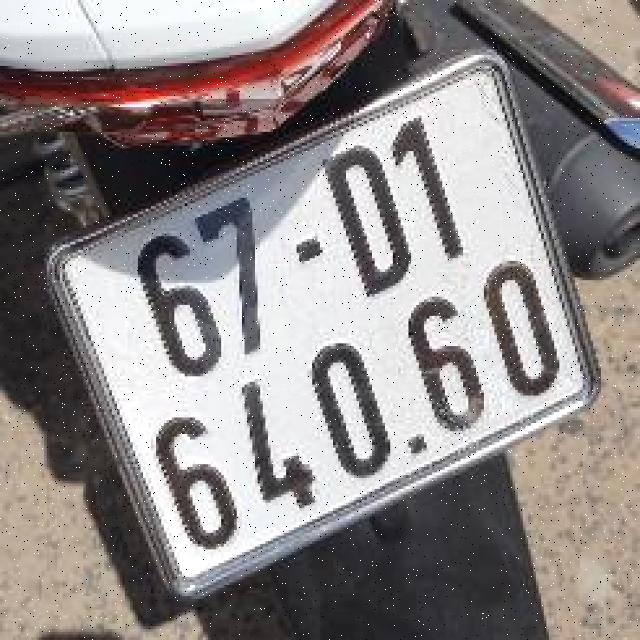0: (472, 238, 583, 412), (297, 324, 406, 498)
1: (379, 97, 484, 275)
4: (224, 361, 330, 529)
6: (120, 212, 236, 394), (132, 401, 254, 566), (387, 277, 503, 445)
7: (176, 183, 287, 370)
D: (311, 126, 429, 311)
